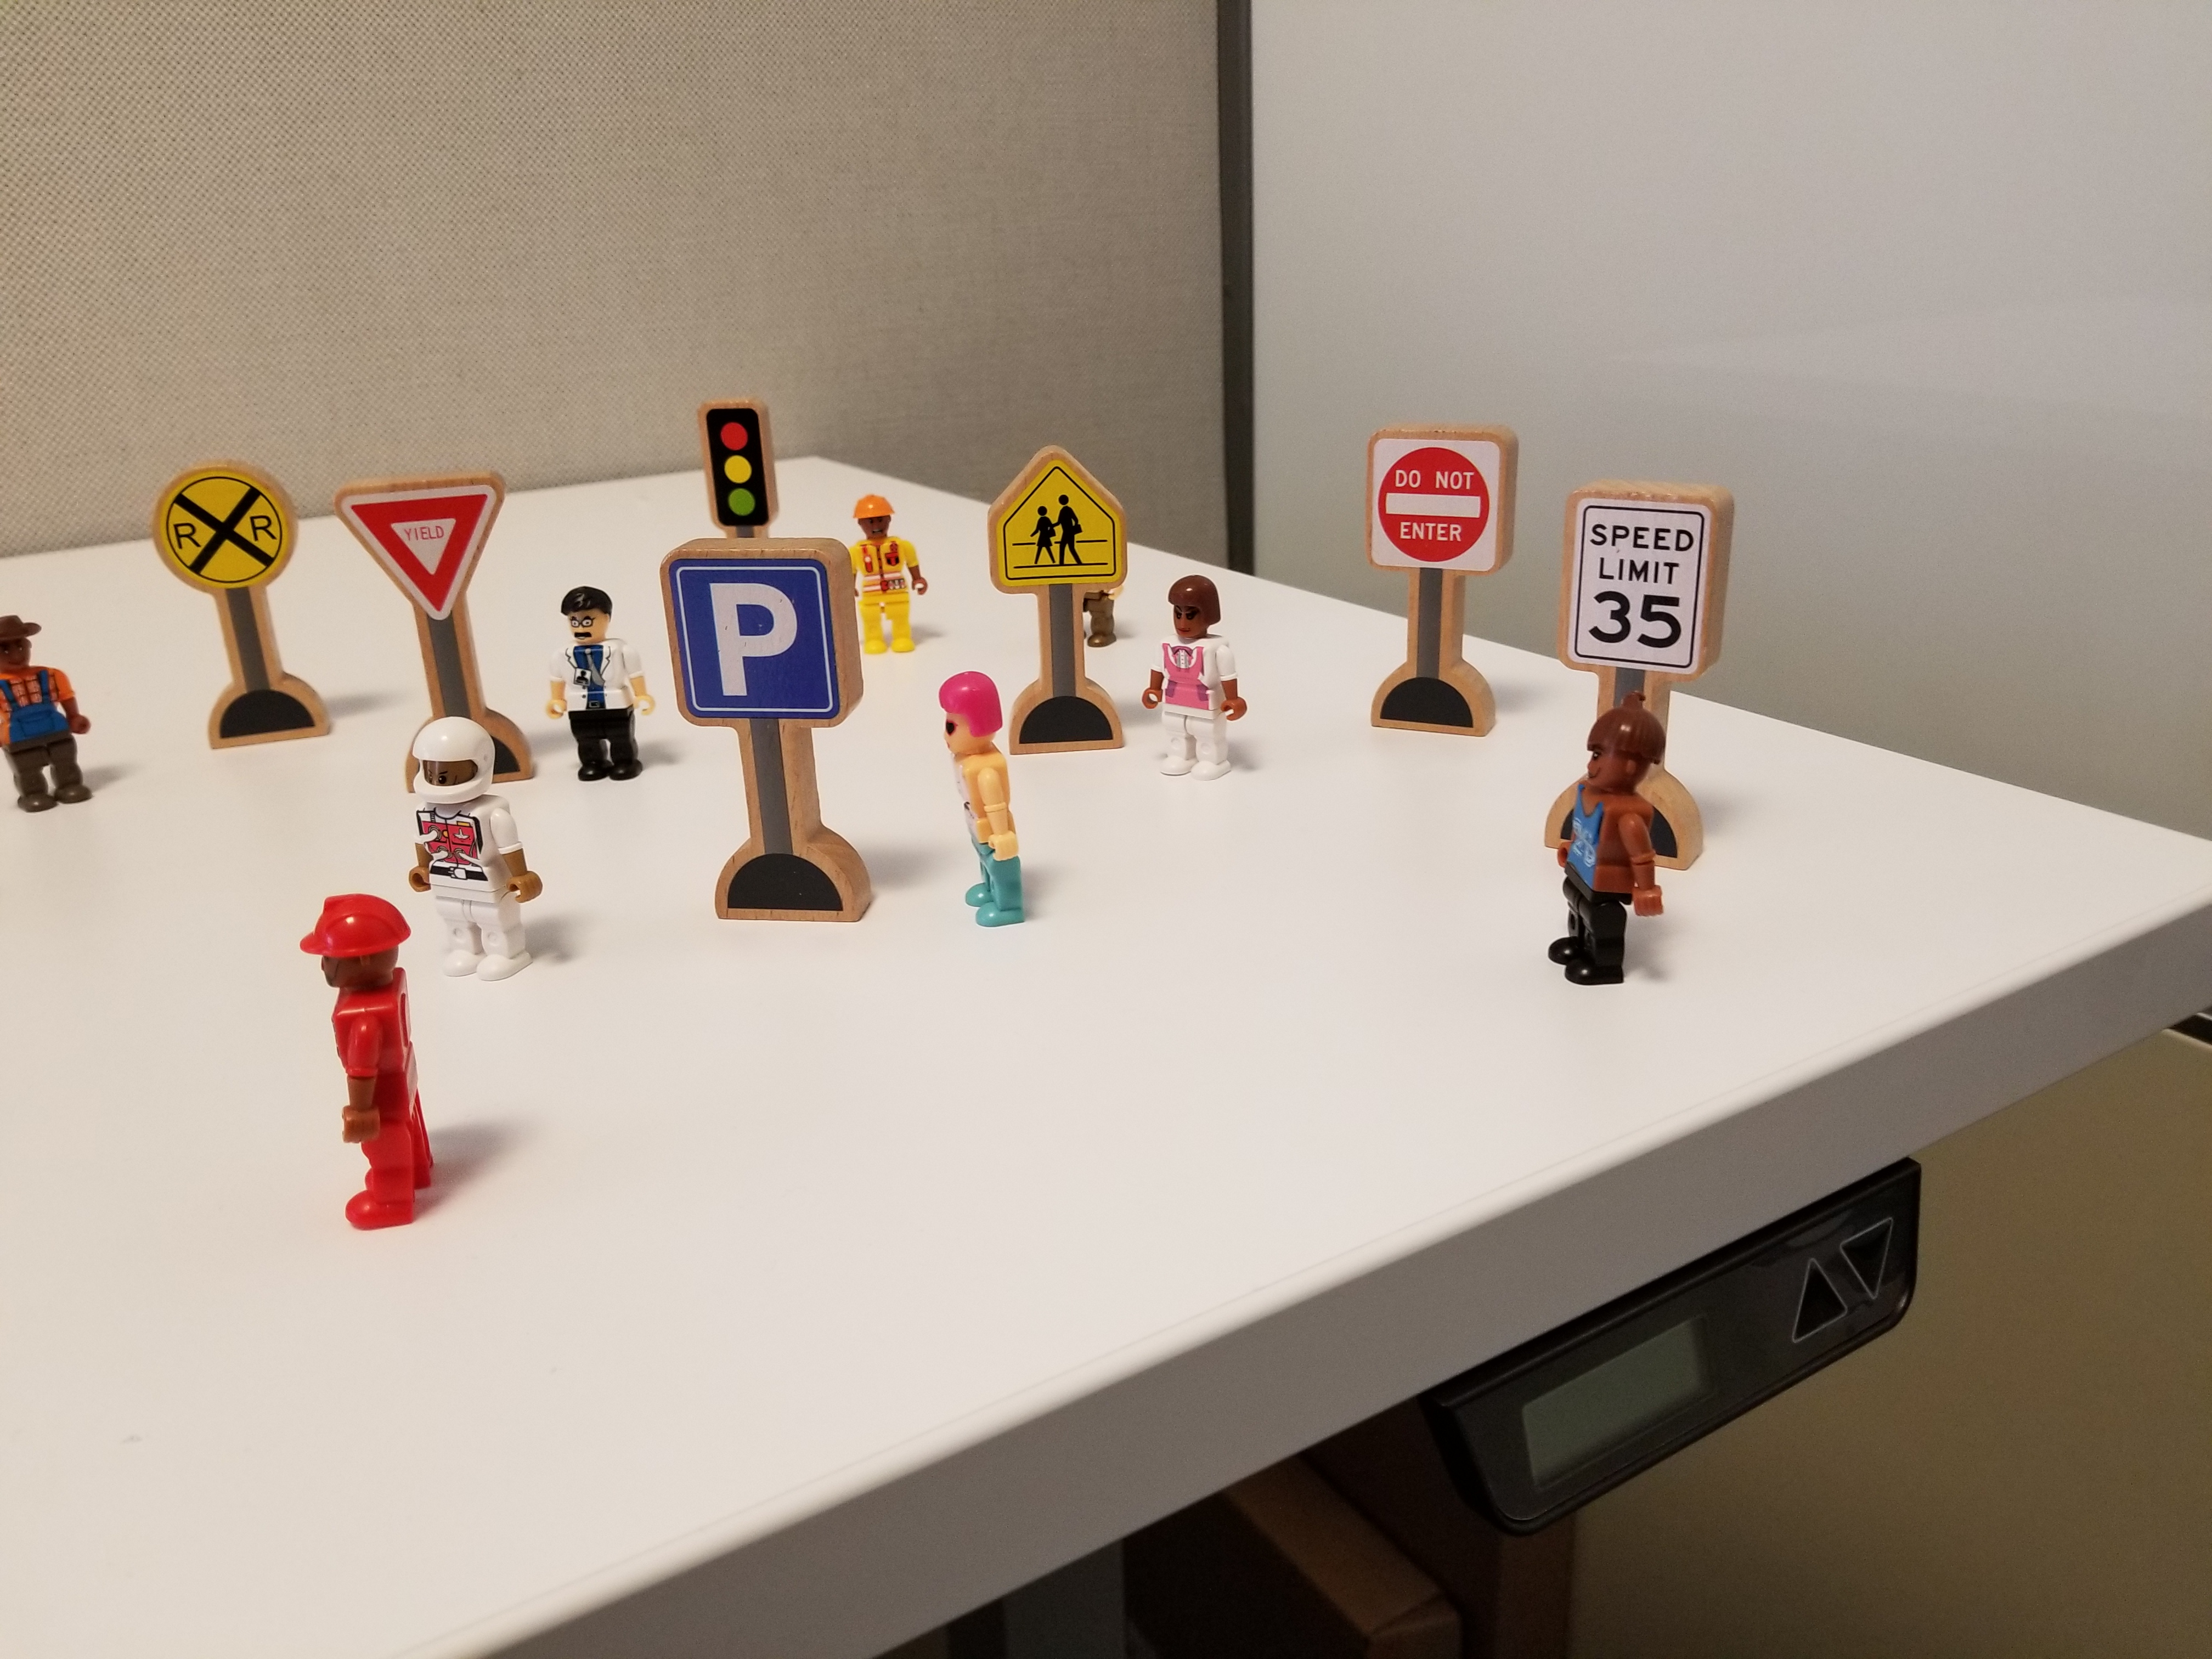Do not enter: (1333, 392, 1515, 741)
Parking: (644, 530, 890, 932)
Railroad Crossing: (126, 453, 352, 756)
Speed limit 35: (1544, 447, 1781, 675)
Traffic Light: (670, 379, 804, 545)
Yield: (326, 466, 510, 648)
person: (275, 907, 475, 1250), (1531, 690, 1682, 1043), (892, 659, 1052, 962), (387, 710, 552, 910), (1136, 563, 1269, 800), (519, 563, 670, 771), (5, 585, 106, 833), (828, 495, 938, 673)
